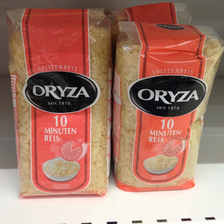rice: (7, 8, 112, 199), (112, 21, 223, 193)
